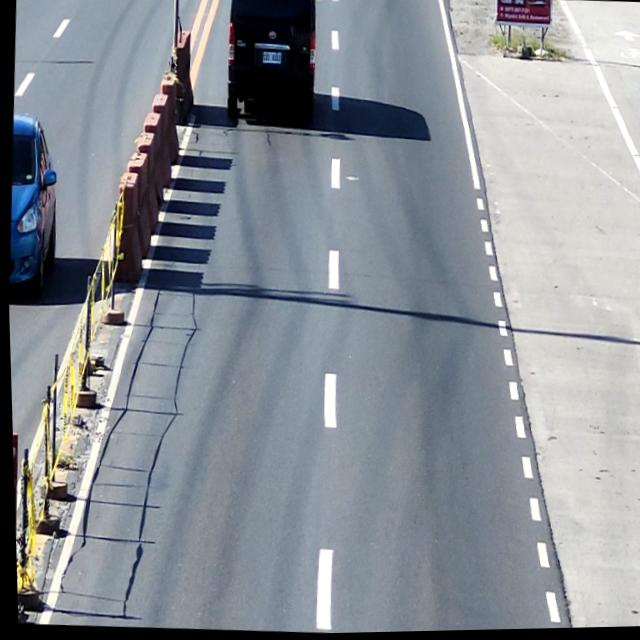Car: (218, 0, 321, 136), (3, 108, 65, 313)
License-Plate: (260, 51, 285, 73)
